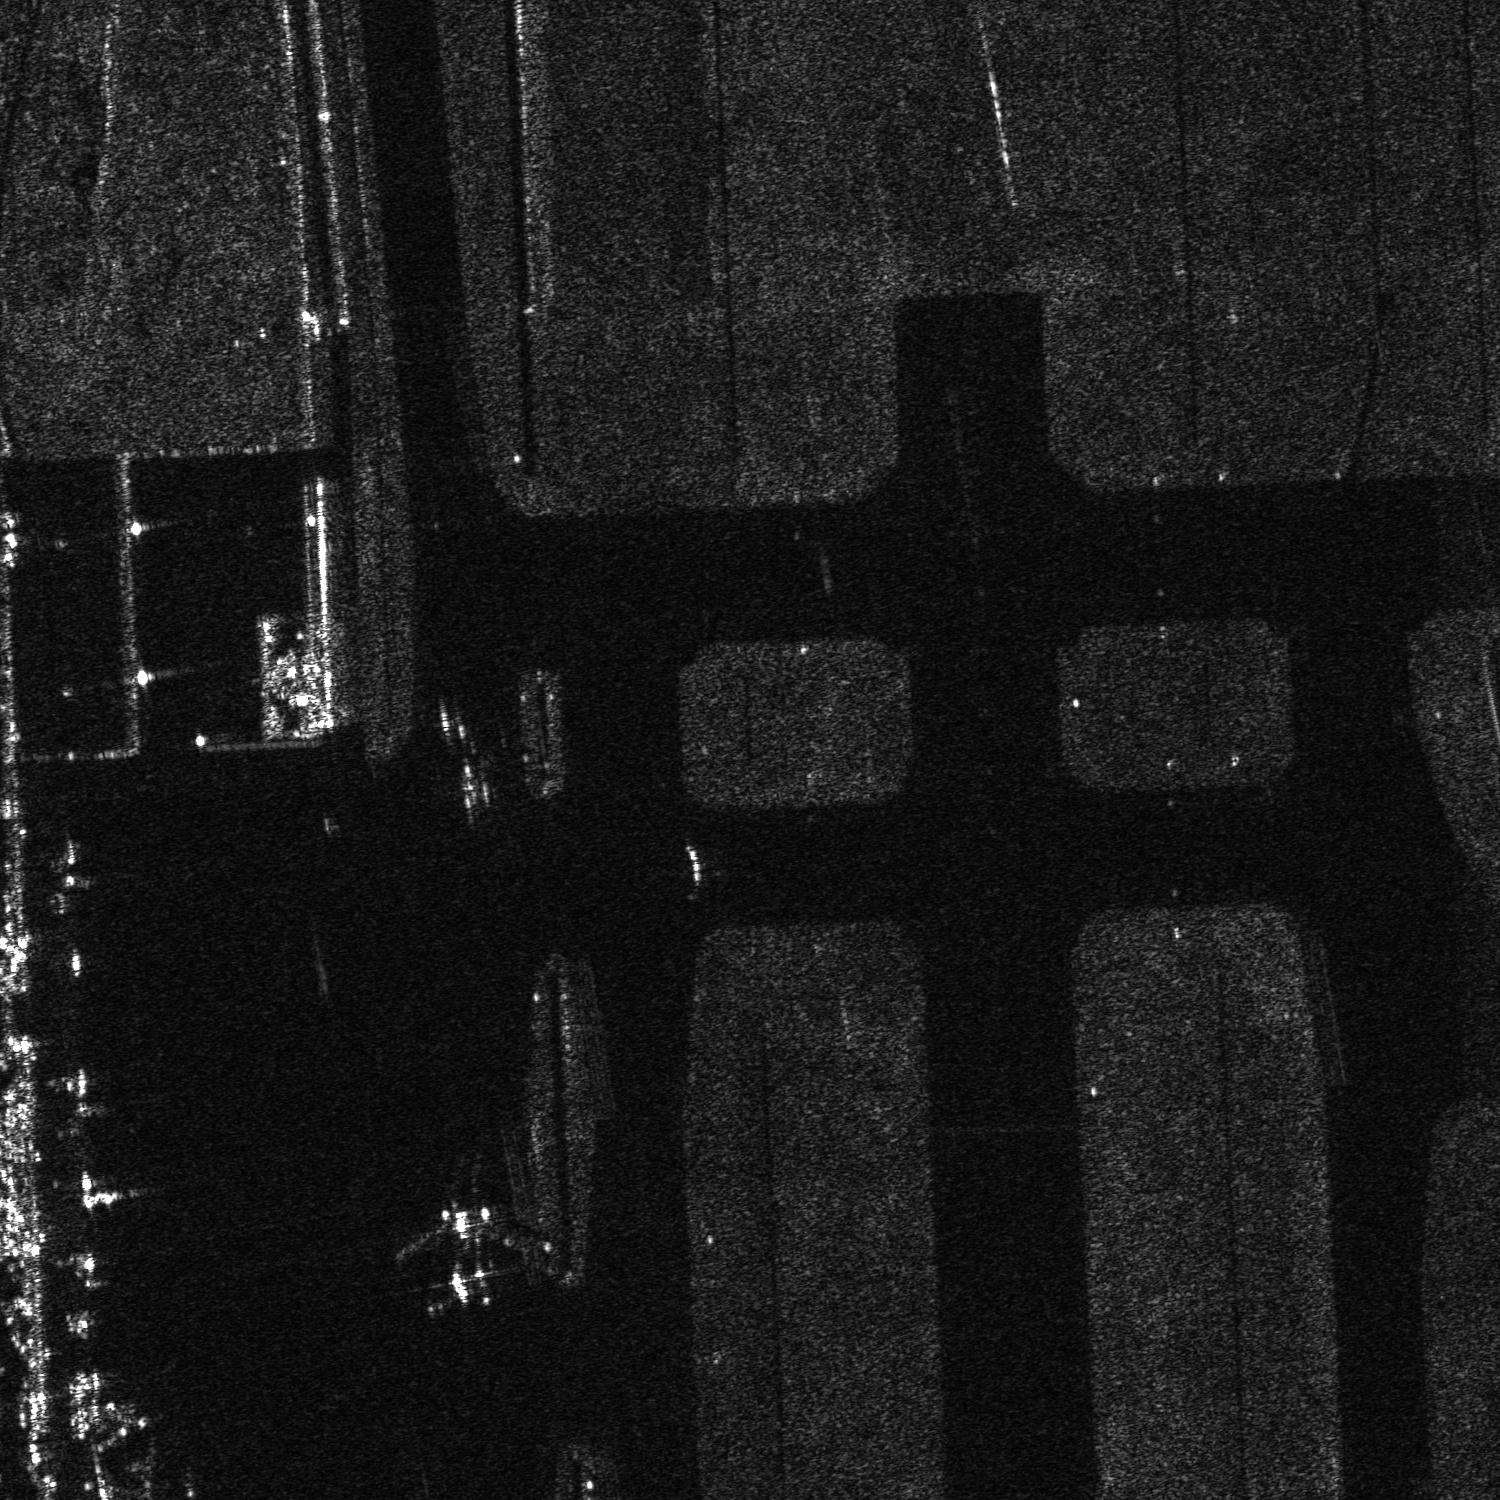A220: (89, 1435, 203, 1499)
other: (393, 1201, 534, 1327)
